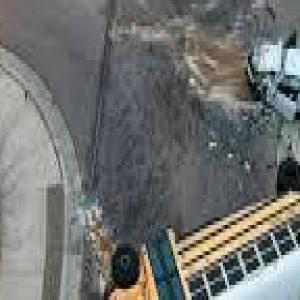fatal: (96, 120, 300, 300)
